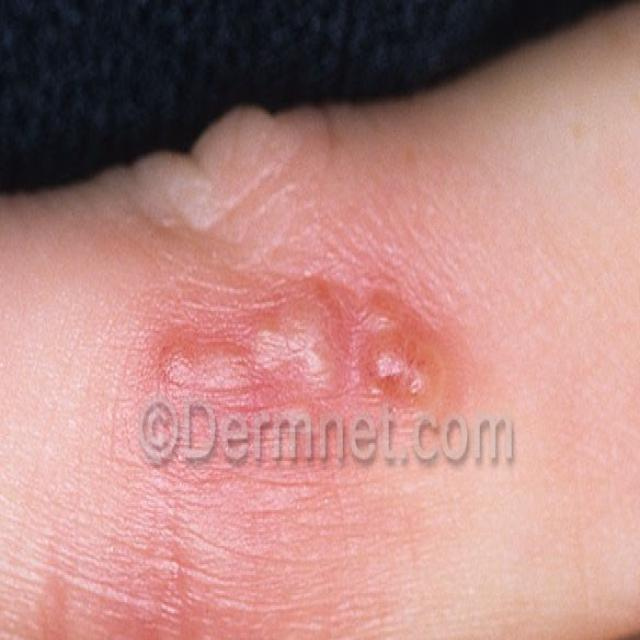Viral Infections: (114, 224, 481, 484)
